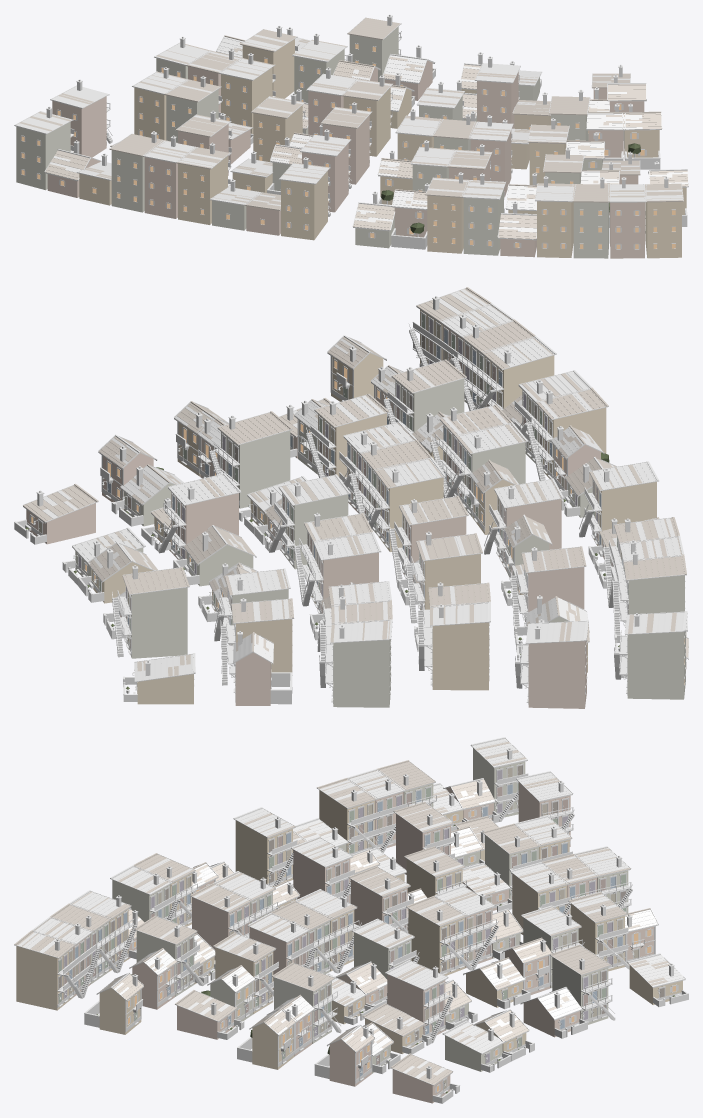
File: moradas_SO.glb
3 views of the same model, one above another, from view 1: azimuth 30°, elevation 25°; view 2: azimuth 150°, elevation 25°; view 3: azimuth 270°, elevation 25° (orthographic). The views are drawn at different scales.
Visible parts, largest first — view 1: Morada_SO_063_Body, Morada_SO_060_Body, Morada_SO_055_Body, Morada_SO_067_Body, Morada_SO_019_Body, Morada_SO_041_Body, Morada_SO_070_Body, Morada_SO_066_Body, Morada_SO_069_Body, Morada_SO_072_Body, Morada_SO_071_Body, Morada_SO_059_Body (+102 smaller); view 2: Morada_SO_002_Body, Morada_SO_041_Body, Morada_SO_055_Body, Morada_SO_017_Body, Morada_SO_029_Body, Morada_SO_026_Body, Morada_SO_063_Body, Morada_SO_058_Body, Morada_SO_013_Body, Morada_SO_044_Body, Morada_SO_007_Body, Morada_SO_032_Body (+81 smaller); view 3: Morada_SO_072_Body, Morada_SO_063_Body, Morada_SO_022_Body, Morada_SO_013_Body, Morada_SO_016_Body, Morada_SO_054_Body, Morada_SO_028_Body, Morada_SO_002_Body, Morada_SO_060_Body, Morada_SO_047_Body, Morada_SO_008_Body, Morada_SO_050_Body (+97 smaller).
Part boxes in pixels (x1,y1,x2,y2): Morada_SO_063_Body: [281, 171, 330, 240]; Morada_SO_060_Body: [178, 156, 231, 224]; Morada_SO_055_Body: [16, 122, 74, 190]; Morada_SO_067_Body: [463, 189, 504, 255]; Morada_SO_019_Body: [221, 67, 275, 133]; Morada_SO_041_Body: [52, 96, 112, 157]; Morada_SO_070_Body: [573, 202, 609, 258]; Morada_SO_066_Body: [427, 195, 463, 253]; Morada_SO_069_Body: [537, 201, 573, 257]; Morada_SO_072_Body: [645, 201, 681, 258]; Morada_SO_071_Body: [610, 202, 644, 258]; Morada_SO_059_Body: [144, 157, 177, 218]; Morada_SO_002_Body: [112, 587, 187, 658]; Morada_SO_041_Body: [515, 636, 587, 708]; Morada_SO_055_Body: [614, 630, 685, 699]; Morada_SO_017_Body: [319, 638, 391, 707]; Morada_SO_029_Body: [419, 621, 489, 690]; Morada_SO_026_Body: [209, 430, 290, 508]; Morada_SO_063_Body: [579, 482, 656, 545]; Morada_SO_058_Body: [612, 575, 685, 639]; Morada_SO_013_Body: [158, 492, 238, 559]; Morada_SO_044_Body: [510, 567, 584, 634]; Morada_SO_007_Body: [229, 652, 292, 705]; Morada_SO_032_Body: [405, 554, 480, 623]; Morada_SO_072_Body: [16, 946, 83, 1010]; Morada_SO_063_Body: [235, 820, 299, 886]; Morada_SO_022_Body: [408, 909, 472, 975]; Morada_SO_013_Body: [387, 974, 453, 1043]; Morada_SO_016_Body: [314, 1040, 372, 1086]; Morada_SO_054_Body: [84, 988, 143, 1034]; Morada_SO_028_Body: [237, 1023, 294, 1069]; Morada_SO_002_Body: [552, 957, 615, 1024]; Morada_SO_060_Body: [319, 790, 381, 854]; Morada_SO_047_Body: [293, 850, 356, 902]; Morada_SO_008_Body: [571, 904, 629, 971]; Morada_SO_050_Body: [192, 897, 255, 959].
Size of what is drawn, in the model's own units: 116 by 17.3 by 116.
Materials: 22 (18 with a texture image).
